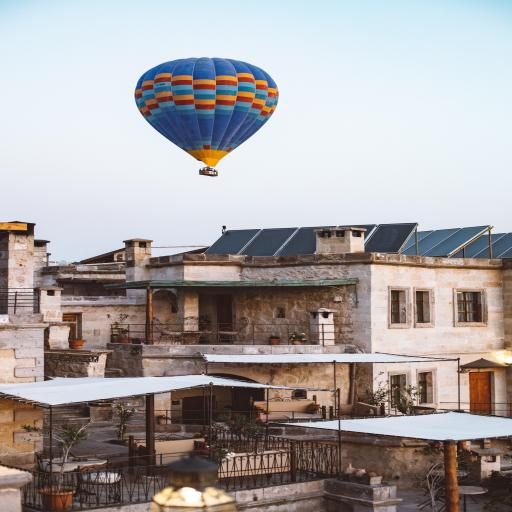hot air ballon: (133, 54, 281, 180)
